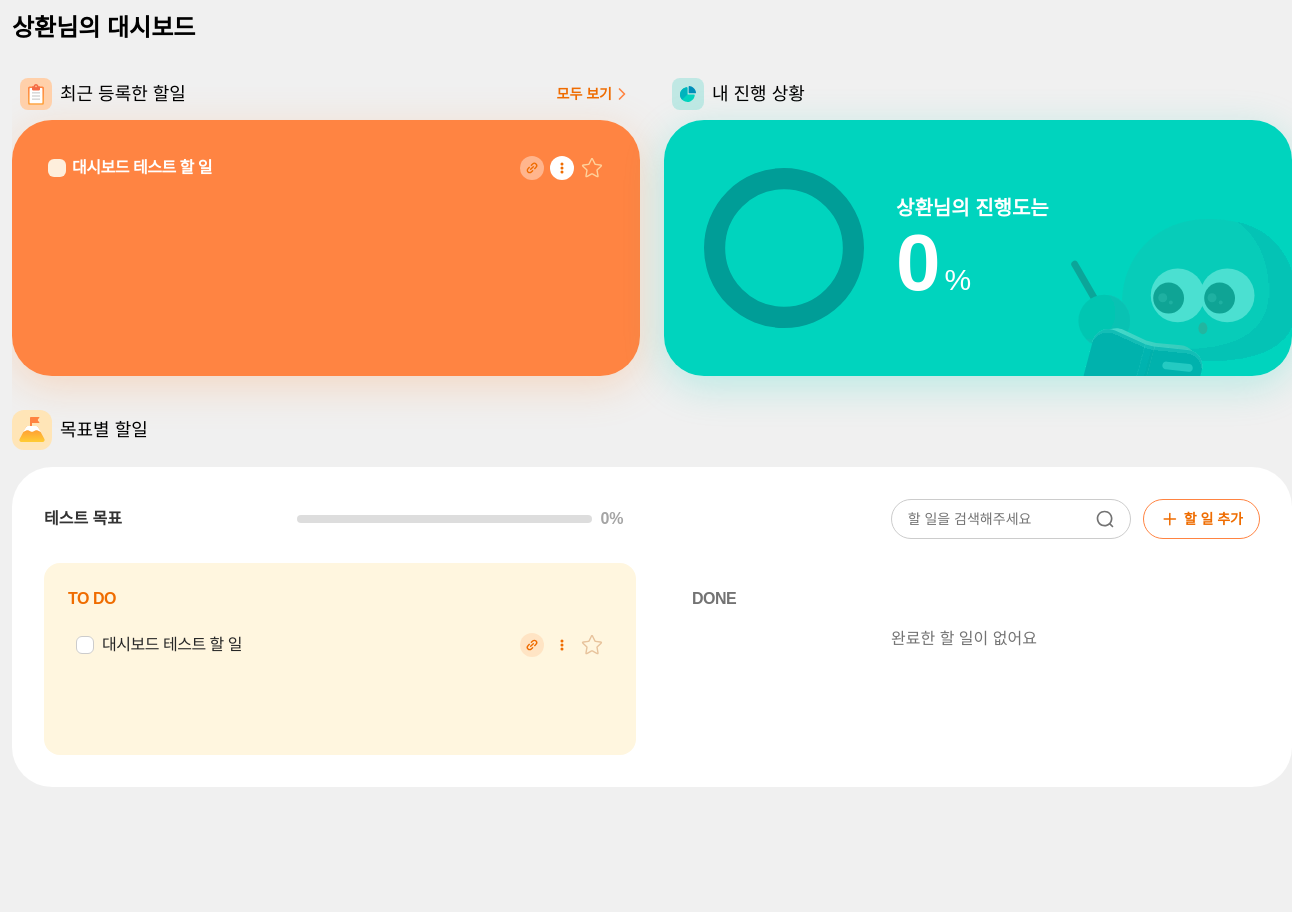
Test: 대시보드 공용 기능 연결 › 최근 목록의 완료 버튼을 서버에 저장하고 두 위치와 진행률에 반영한다
Expected: the button "할 일 추가" is shown, 1143,499 -> 1260,539
Click the checkbox named "완료" below "최근 등록한 할일".
click(57, 168)  # box 48,159 -> 66,177
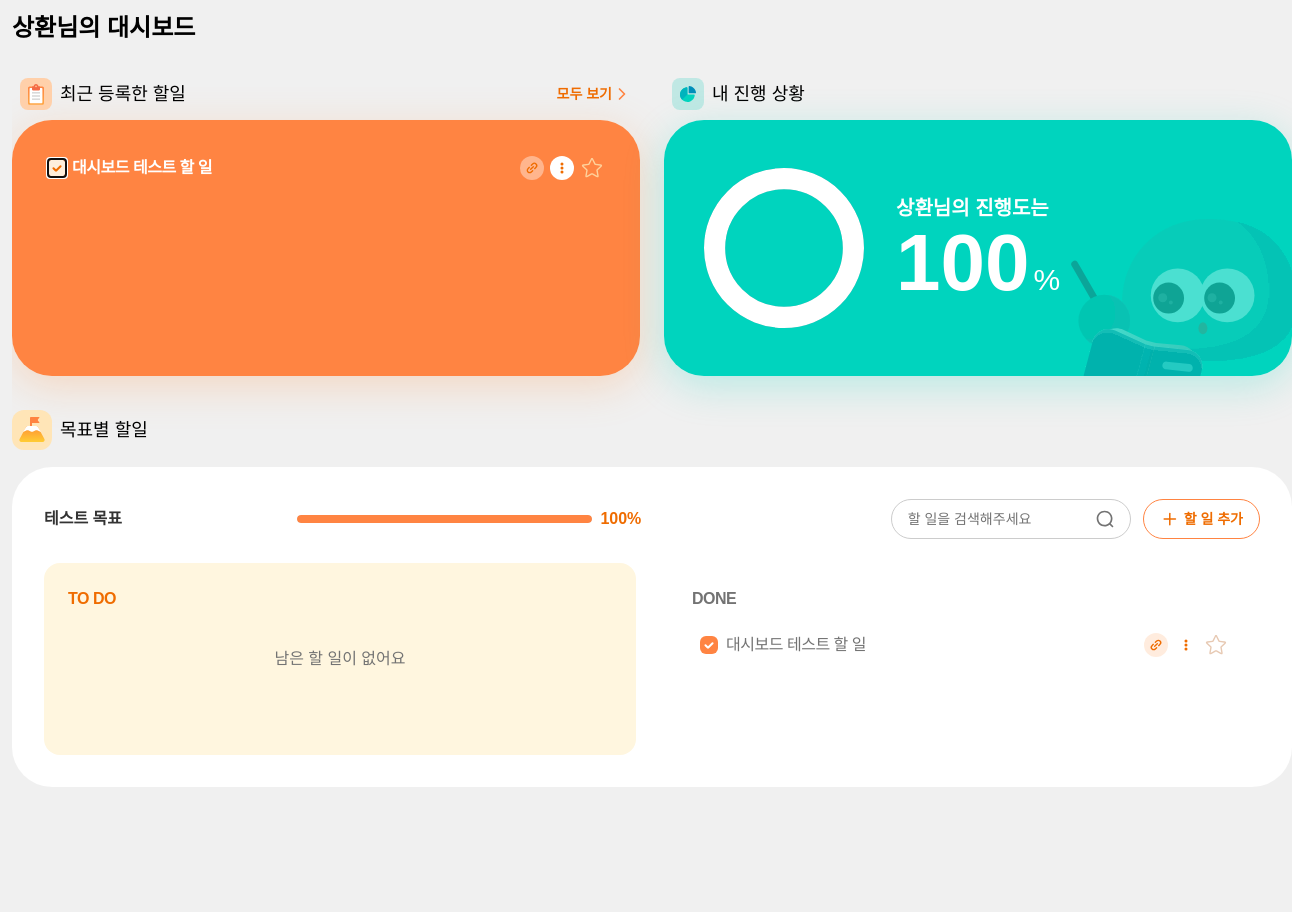
Expected: the number of checkboxes is 2, 48,159 -> 66,177; 700,636 -> 718,654
Expected: the checkbox named "완료" below "최근 등록한 할일" is checked, 48,159 -> 66,177
Expected: the checkbox named "완료" below "DONE" is checked, 700,636 -> 718,654
